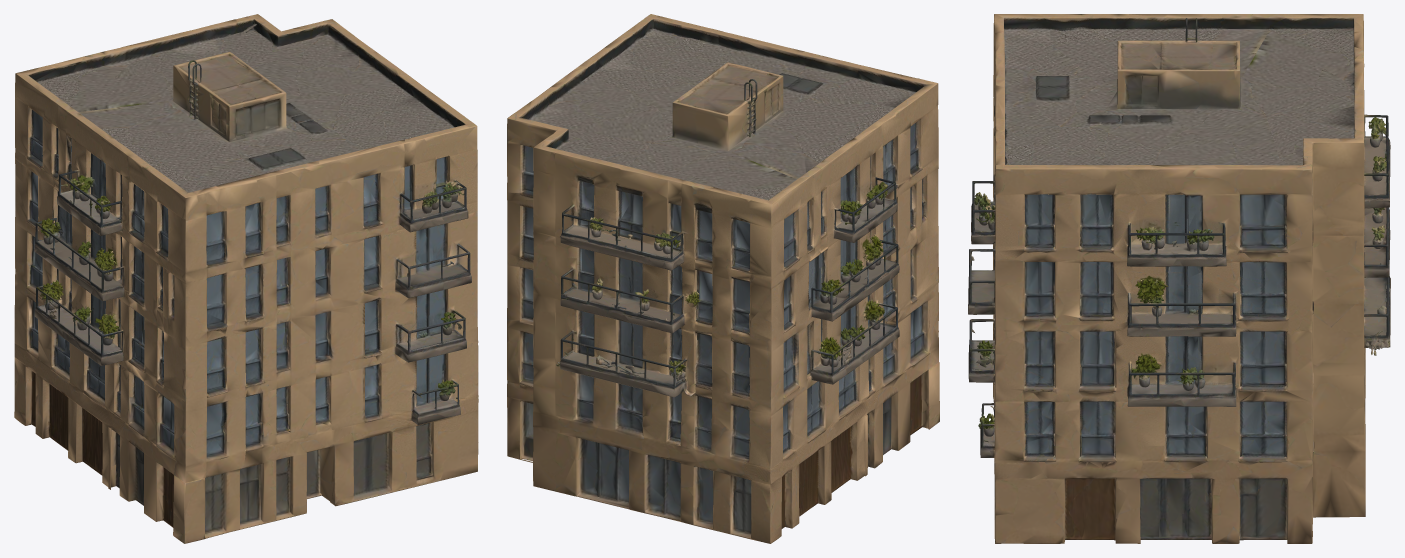
File: resblock.glb
3 renders of one model, left to right at view 1: azimuth 30°, elevation 25°; view 2: azimuth 150°, elevation 25°; view 3: azimuth 270°, elevation 25°, orthographic. The views are drawn at different scales.
Parts seen in each view (by area): view 1: mesh_node; view 2: mesh_node; view 3: mesh_node.
Part boxes in pixels (left/top/right/bottom): mesh_node: left=14, top=14, right=478, bottom=543; mesh_node: left=507, top=14, right=939, bottom=543; mesh_node: left=968, top=14, right=1390, bottom=543.
Size of the model in its own units: 1.73 by 1.9 by 1.72.
Materials: 1 (1 with a texture image).
